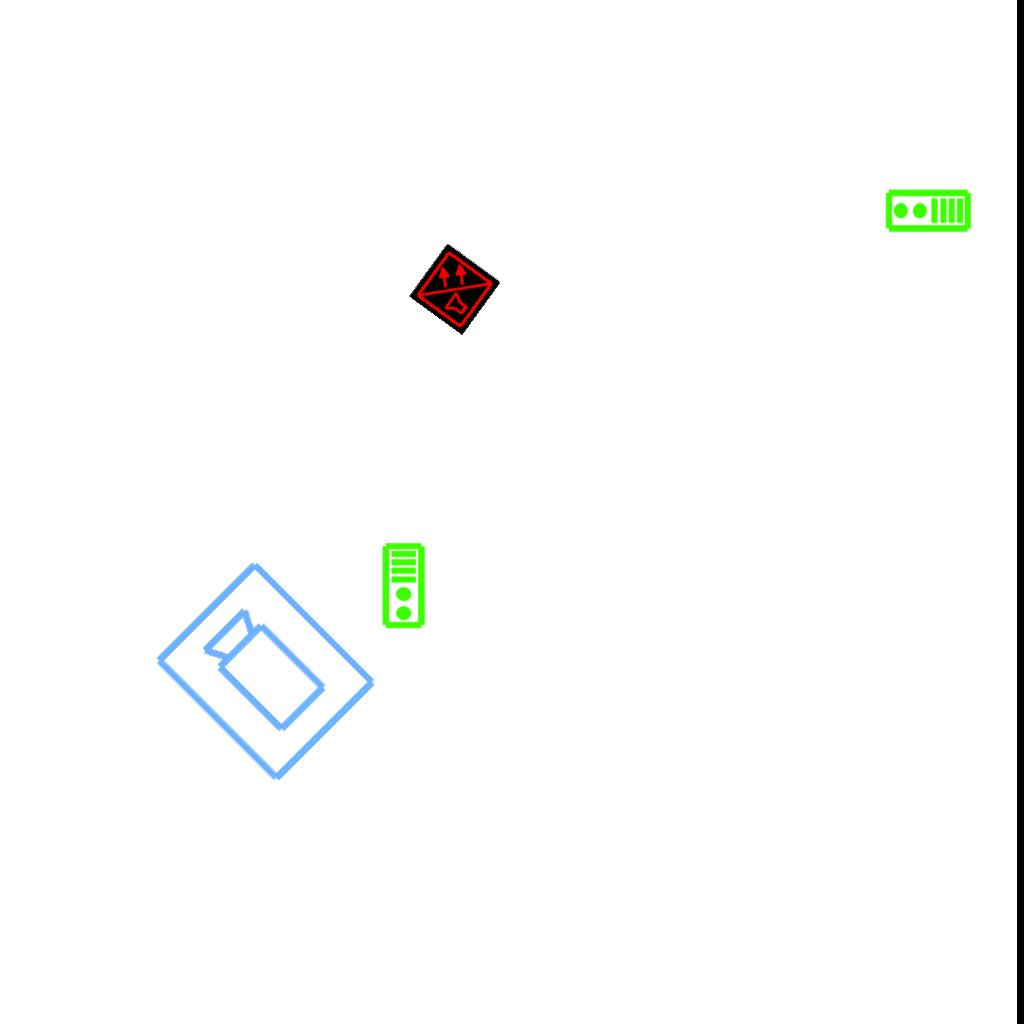Gegensprechanlage_mit_Video: (884, 188, 972, 235), (381, 542, 428, 630)
KFO_Kamera_mit_Festobjektiv: (148, 552, 386, 790)
OKW_Multisensormelder_(Kombination_optischer_Rauch-Kahlenmonoxid_Waerme-Melder): (408, 242, 502, 336)
